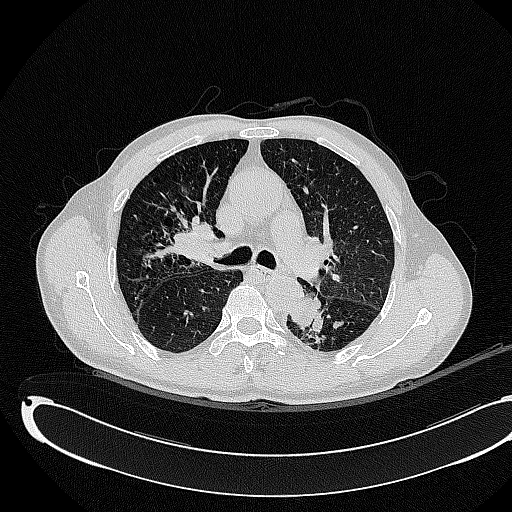nodule: (312, 317, 323, 331)
